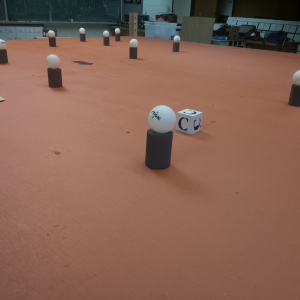corner: (128, 11, 137, 35)
obstacle: (146, 107, 174, 169), (47, 54, 61, 89), (289, 70, 300, 109), (128, 40, 138, 59), (47, 30, 57, 47), (1, 38, 7, 66), (173, 34, 180, 53), (114, 28, 122, 42), (79, 27, 87, 41), (102, 31, 109, 46)
start: (71, 58, 92, 65)
